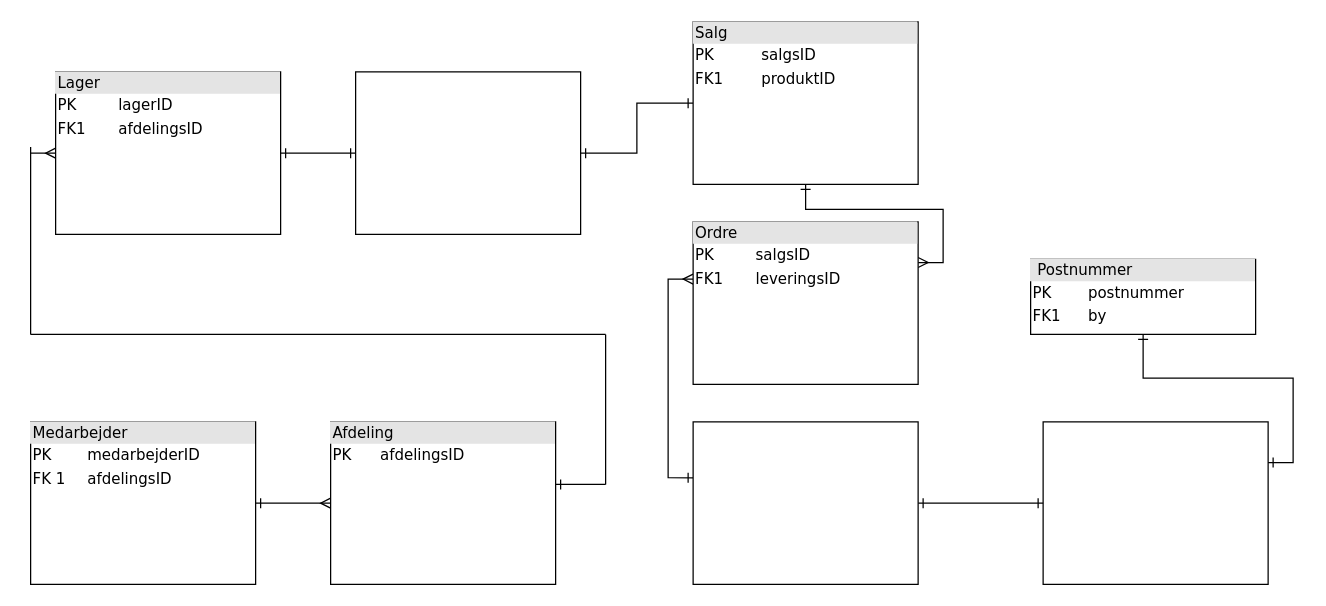
The diagram is 1326 pixels wide and 606 high, and some of its shapes have lost their labels. Here are the shapes that lost their labels. From the top down, the box of each, then its label:
(354, 71, 581, 234): Produkter PK produktID FK1 lagerID
(692, 421, 918, 584): levering PK leveringsID FK1 salgsID
(1042, 421, 1268, 584): Kunder PK kundeID FK1 leveringsID FK1 postnummer navn adresse
